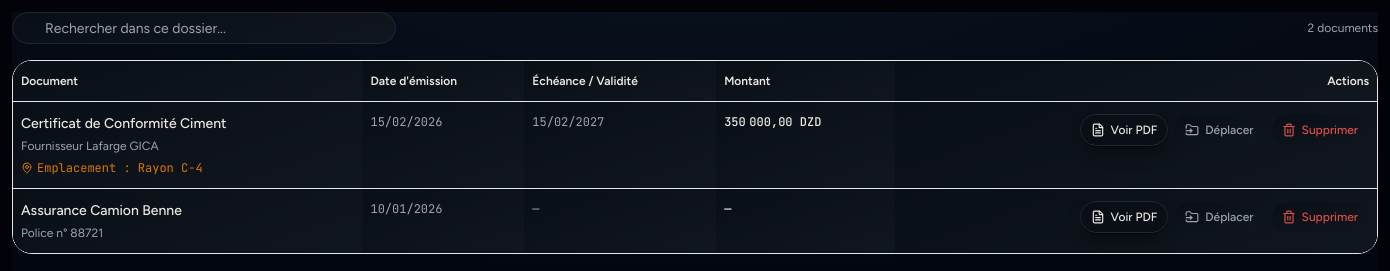
Test: Archives Module UI Pages & Components › ArchiveDocumentTable Component › filters documents via inline search
Type "Lafarge" into the field with placeholder "Rechercher dans ce dossier...".
click(204, 28); type("Lafarge")  # box [12,12,396,44]
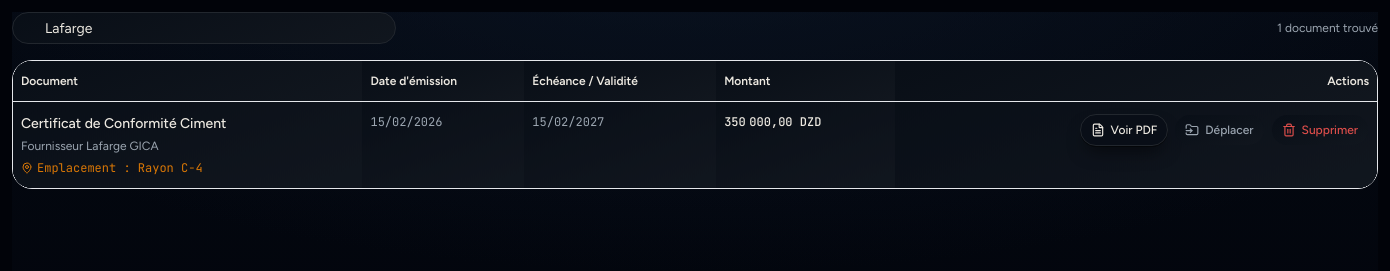
Check: the text "Certificat de Conformité Ciment" is shown, box [21,114,226,132]
Check: the text "Assurance Camion Benne" is gone
